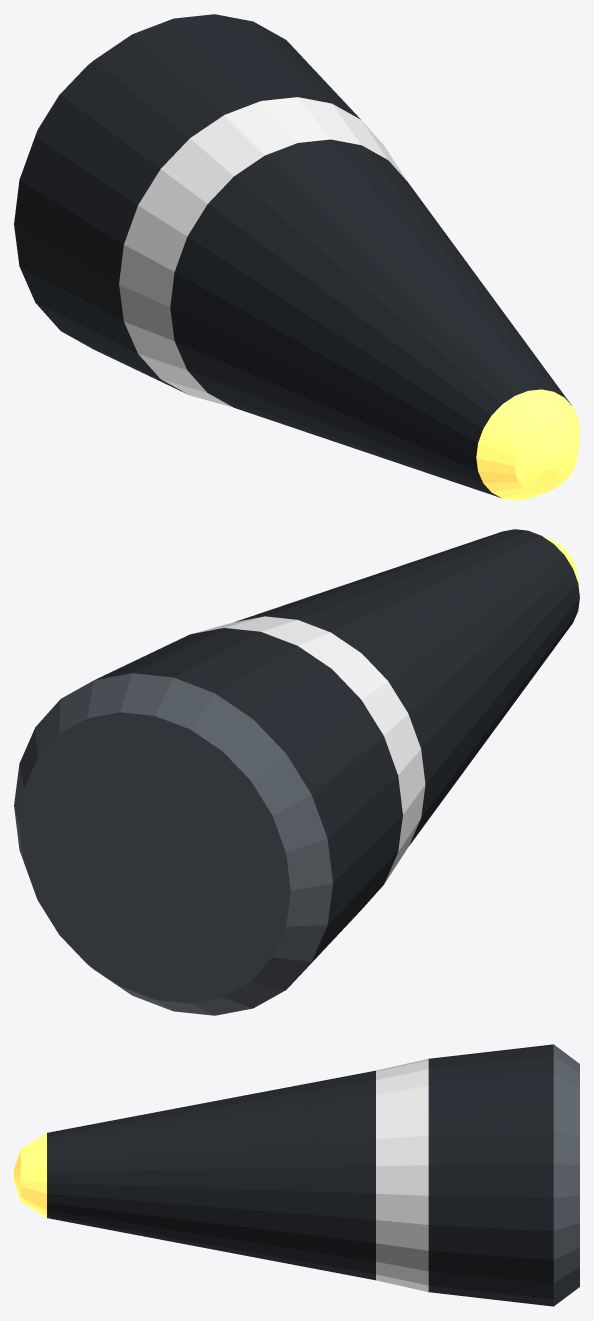
Rendered from mirv_warhead.glb.
The picture shows the model from 3 angles, top to bottom: view 1: azimuth 30°, elevation 25°; view 2: azimuth 150°, elevation 25°; view 3: azimuth 270°, elevation 25°; orthographic projection. The views are drawn at different scales.
Visible parts, largest first — view 1: MIRVWarhead; view 2: MIRVWarhead; view 3: MIRVWarhead.
Part boxes in pixels (<box>): MIRVWarhead: <box>14,14,579,500</box>; MIRVWarhead: <box>14,529,579,1015</box>; MIRVWarhead: <box>14,1044,579,1306</box>.
Size of the model in its own units: 0.4 by 0.4 by 0.86.
